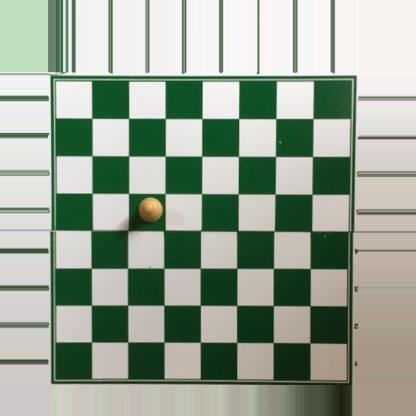white-pawn: (137, 196, 163, 225)
